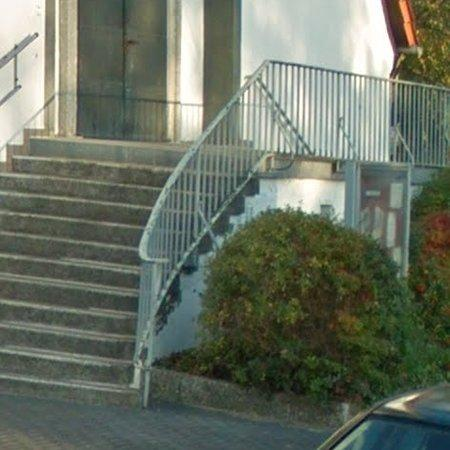stairs: (0, 134, 251, 402)
